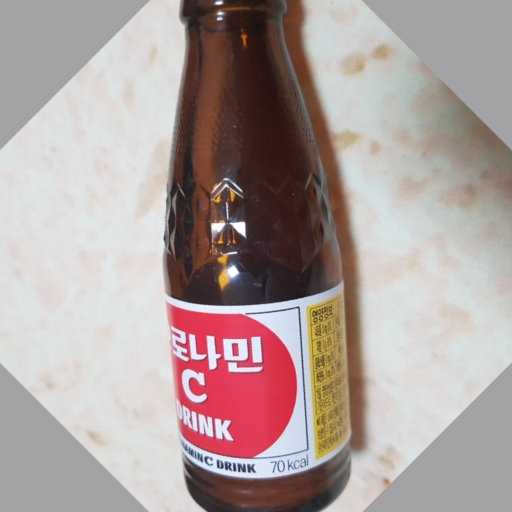Glass_3: (162, 1, 354, 512)
